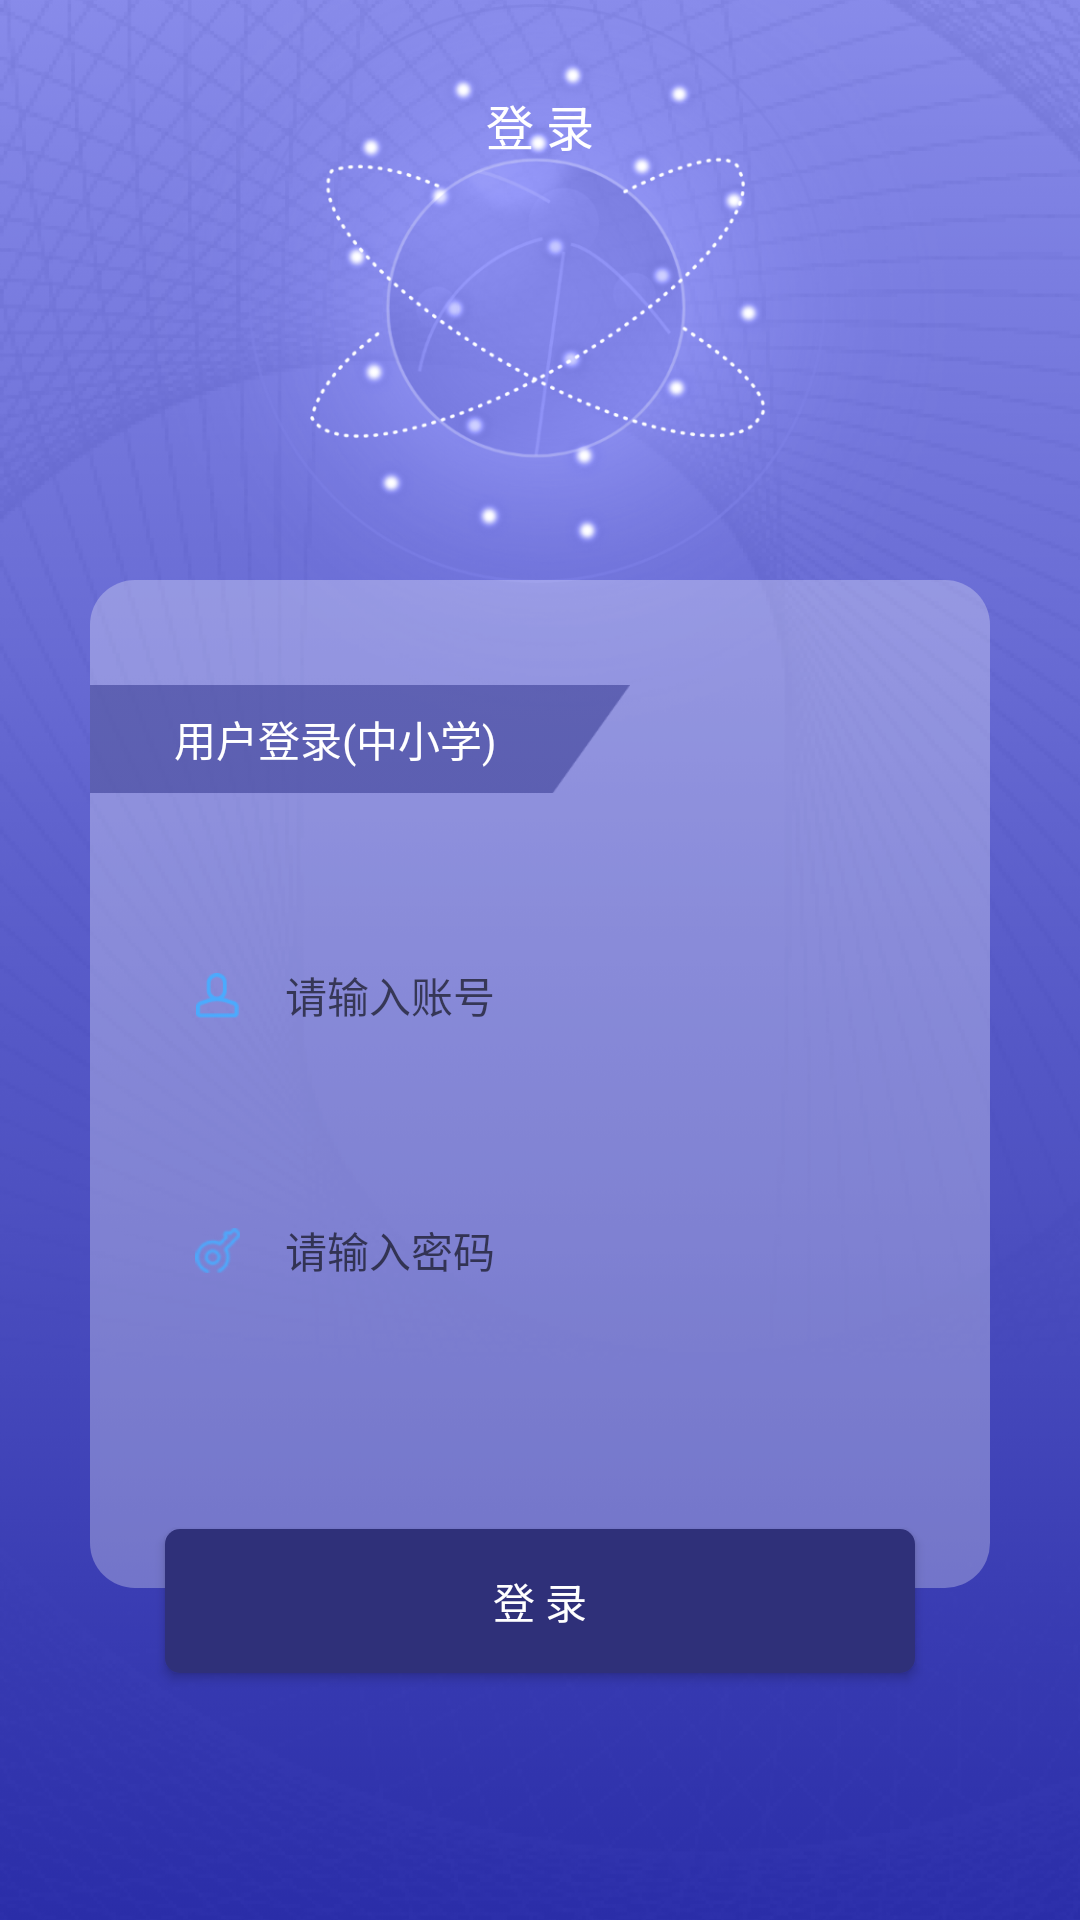

Where to tap for icons on this 1080 × 1920 app screen, as [x,y]:
login user: [217,995]
